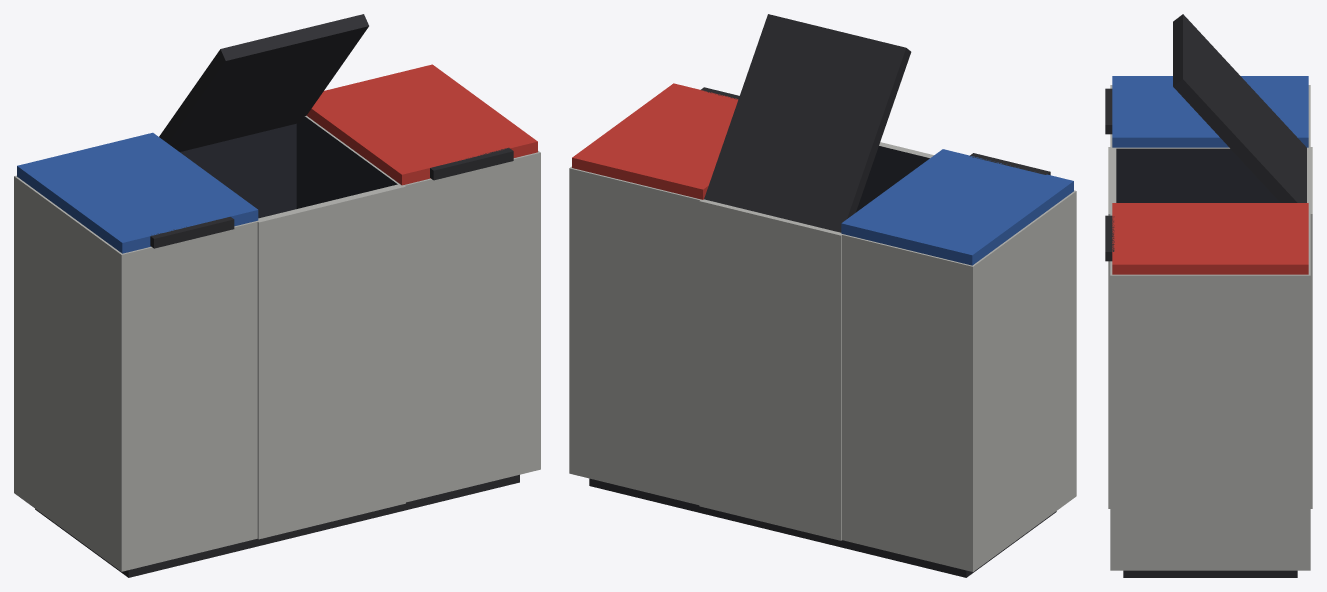
The model's file is FN_Bin_Recycling.obj.
3 views of the same model, side by side, from view 1: azimuth 30°, elevation 25°; view 2: azimuth 150°, elevation 25°; view 3: azimuth 270°, elevation 25° (orthographic). The views are drawn at different scales.
Visible parts, largest first — view 1: FN_Bin_Recycling; view 2: FN_Bin_Recycling; view 3: FN_Bin_Recycling.
Part boxes in pixels (x1,y1,x2,y2): FN_Bin_Recycling: (14,14,540,577); FN_Bin_Recycling: (569,14,1076,577); FN_Bin_Recycling: (1105,14,1312,577).
Bounding box in the file's own units: 0.9 × 0.9748 × 0.414.
1 material, 1 textured.
